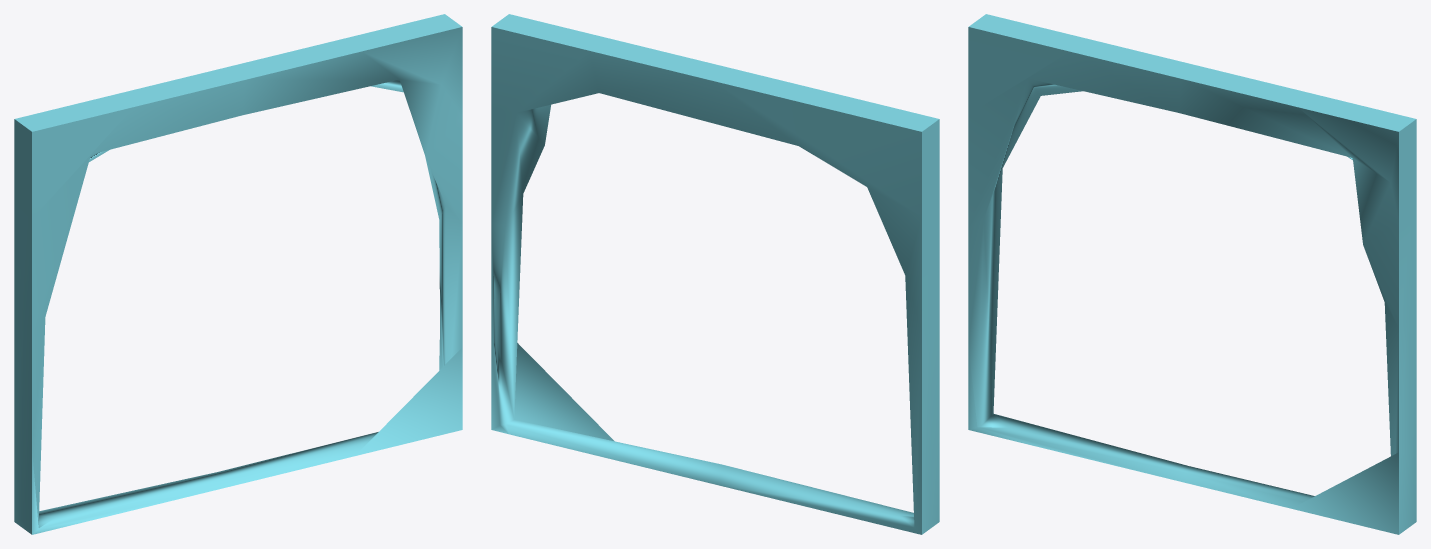
Rendered from Ruinedwall.fbx.
3 renders of one model, left to right at view 1: azimuth 30°, elevation 25°; view 2: azimuth 150°, elevation 25°; view 3: azimuth 330°, elevation 25°, orthographic.
Parts seen in each view (by area): view 1: Ruinedwall; view 2: Ruinedwall; view 3: Ruinedwall.
Boxes of the visible parts, bbox=[...] form: Ruinedwall: bbox=[14, 14, 462, 534]; Ruinedwall: bbox=[491, 14, 939, 534]; Ruinedwall: bbox=[968, 14, 1416, 534].
Bounding box in the file's own units: 386 × 340 × 33.45.
